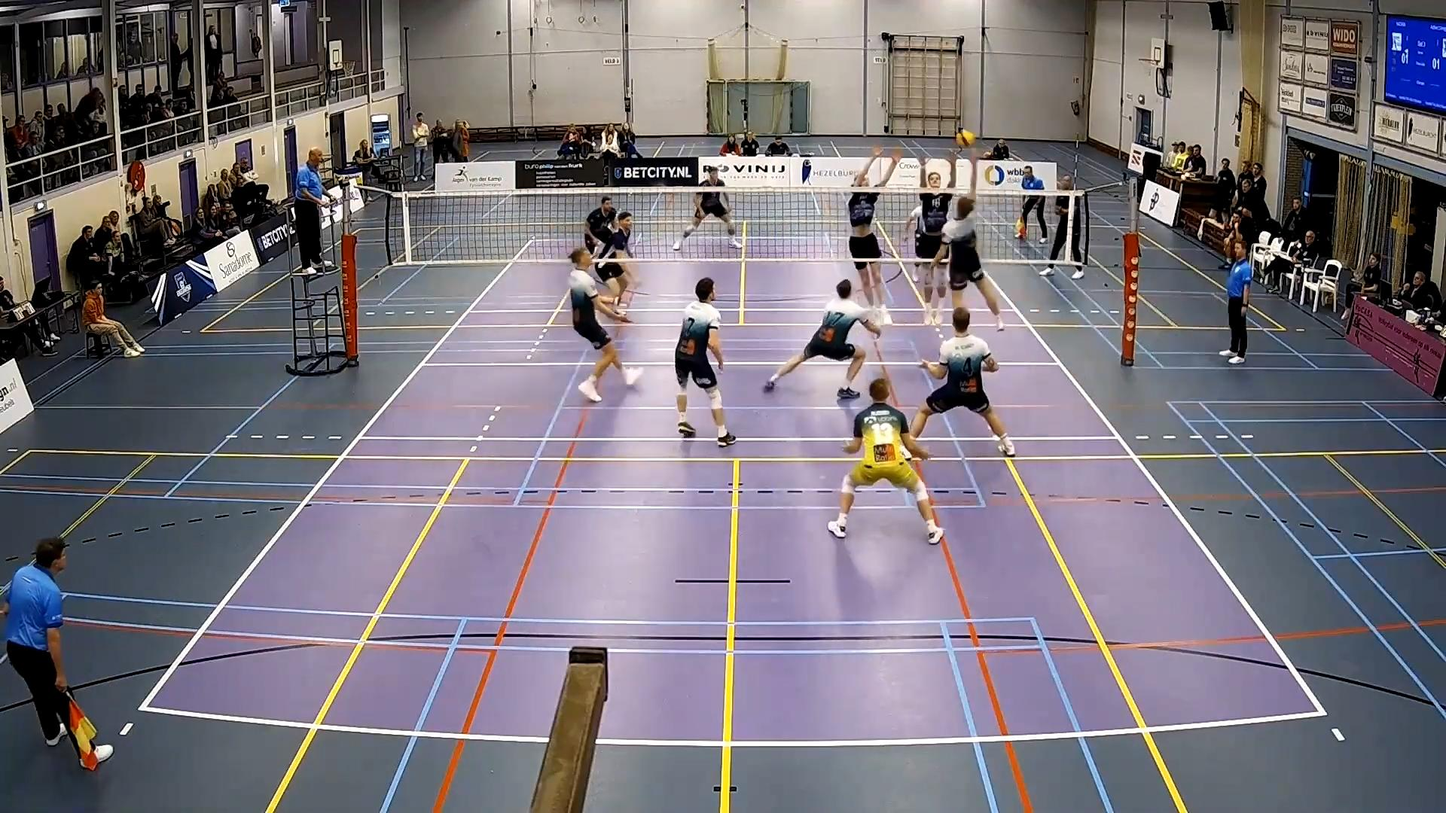attacco: (929, 183, 992, 332)
muro: (841, 148, 903, 327), (908, 148, 965, 319)
